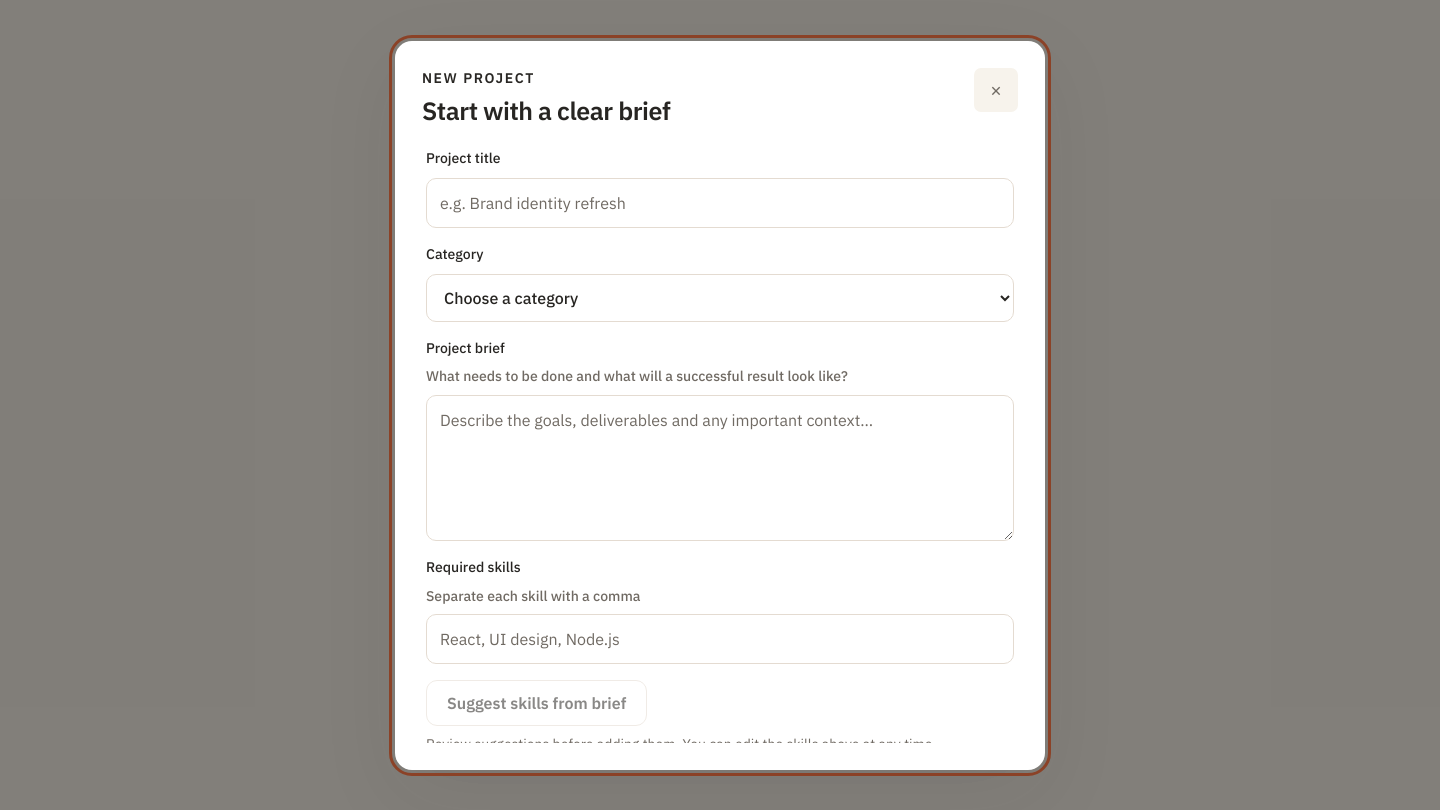
Test: late skill suggestions cannot be reused after a brief edit
In the field with placeholder "e.g. Brand identity refresh": (720, 203) [426,178,1014,228], type "Technical guide"
In the text box with placeholder "Describe the goals, deliverables and any important context…": (720, 468) [426,395,1014,541], type "Write a clear guide explaining React and Node APIs for new developers."
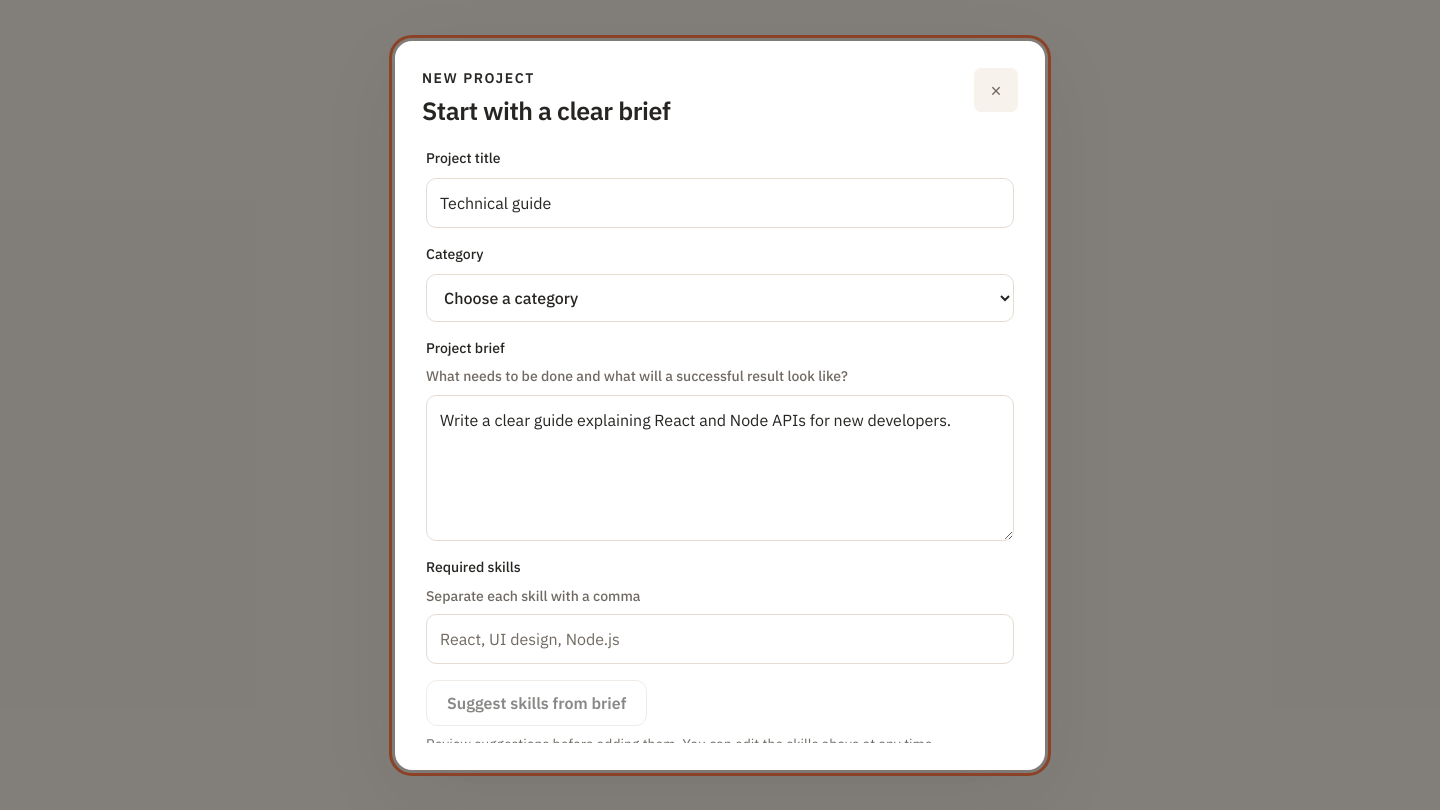
In the field with placeholder "React, UI design, Node.js": (720, 639) [426,614,1014,664], type "React, Writing"
(page scrolled)
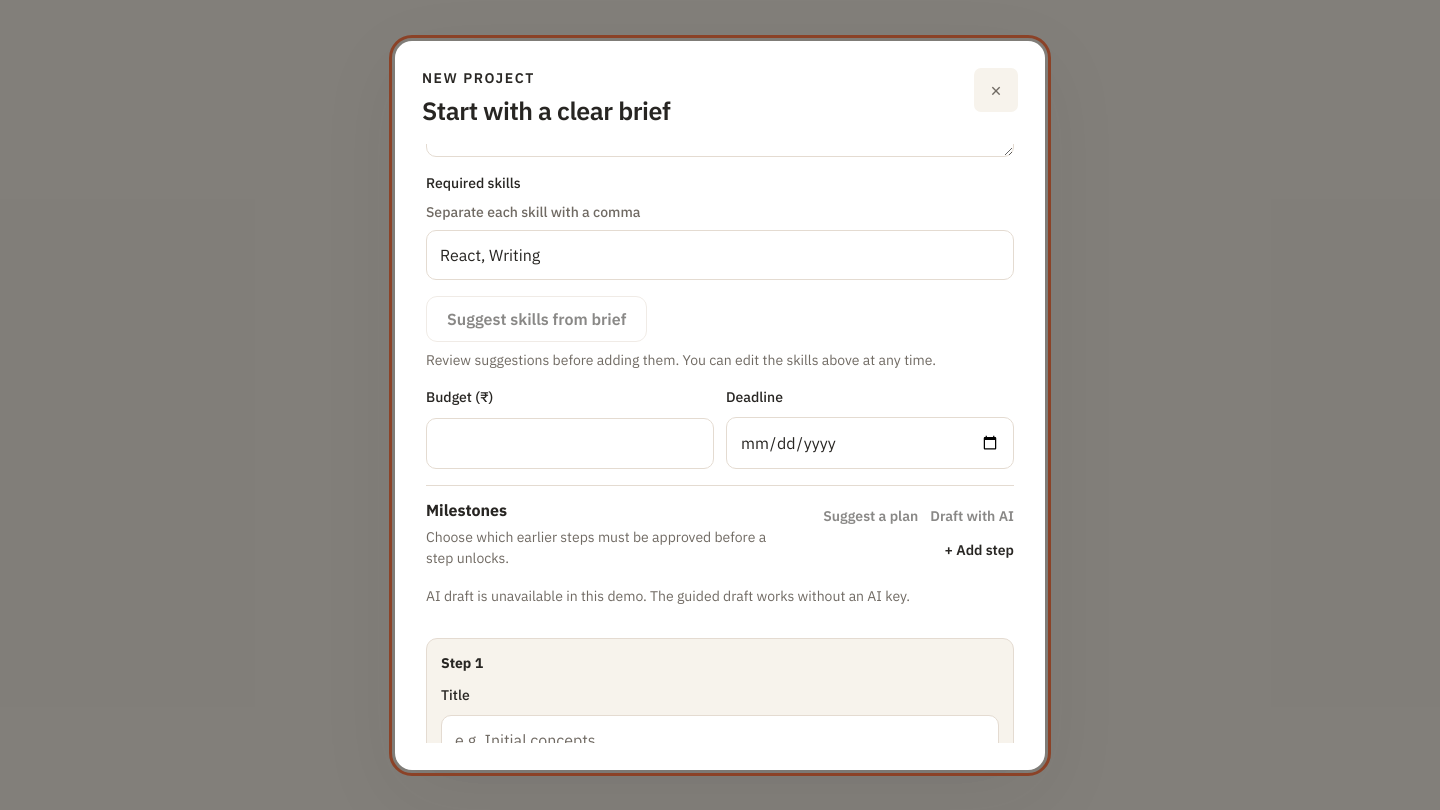
In the number field labelled "Budget (₹)": (570, 443) [426,418,714,469], type "10000"
(page scrolled)
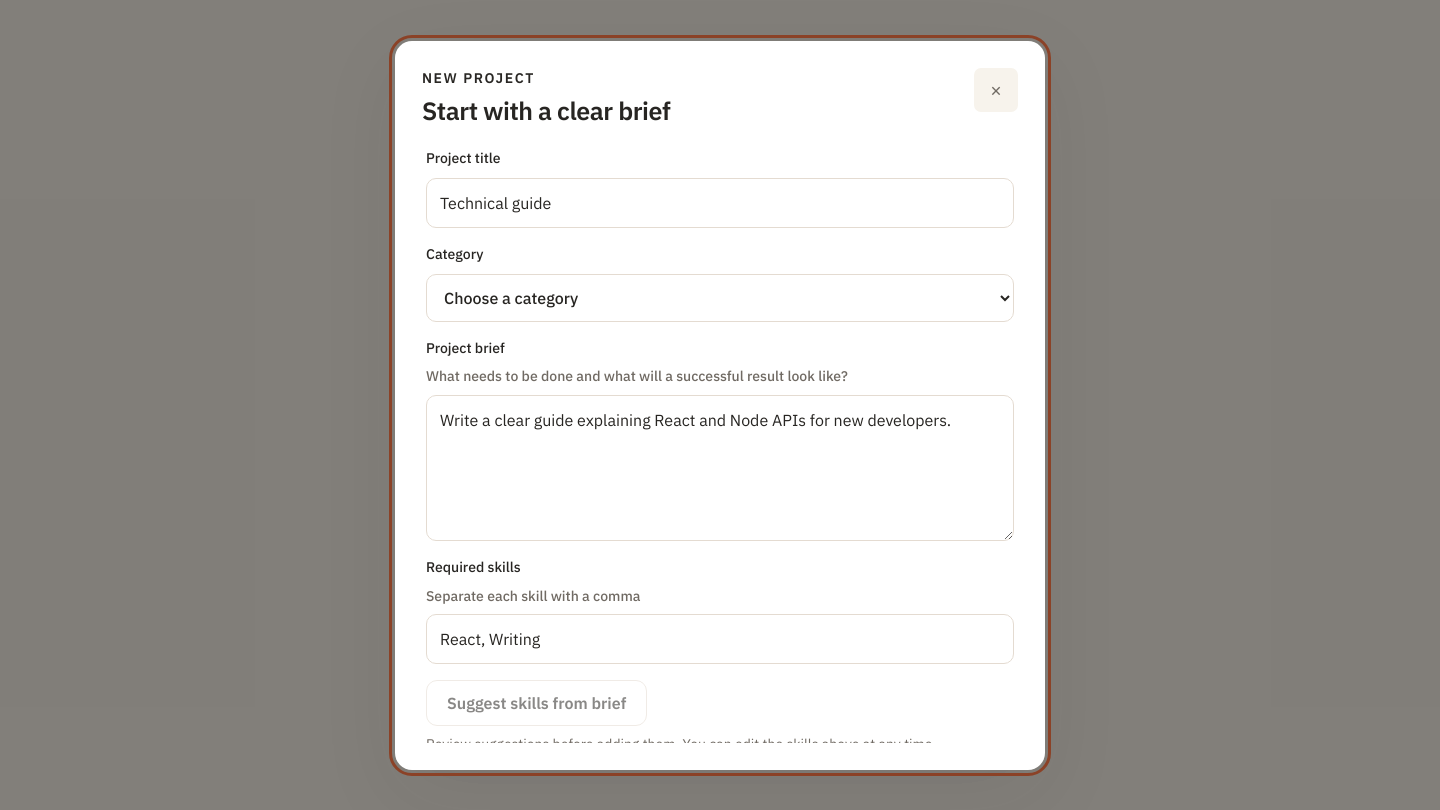
Select "Web Development" in the dropdown labelled "Category": (720, 298) [426,274,1014,322]
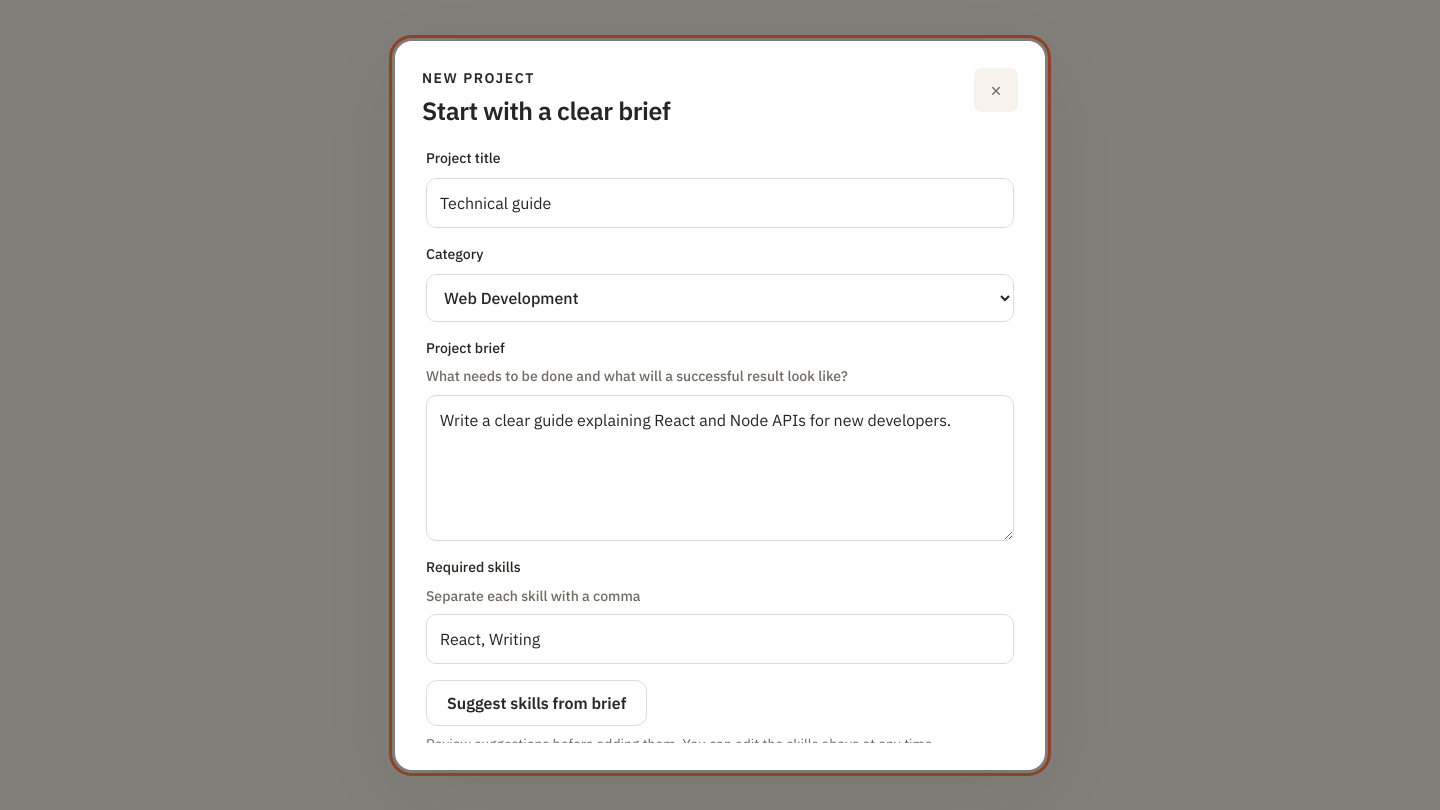
Click the button "Suggest skills from brief": (537, 703) [426,680,647,726]
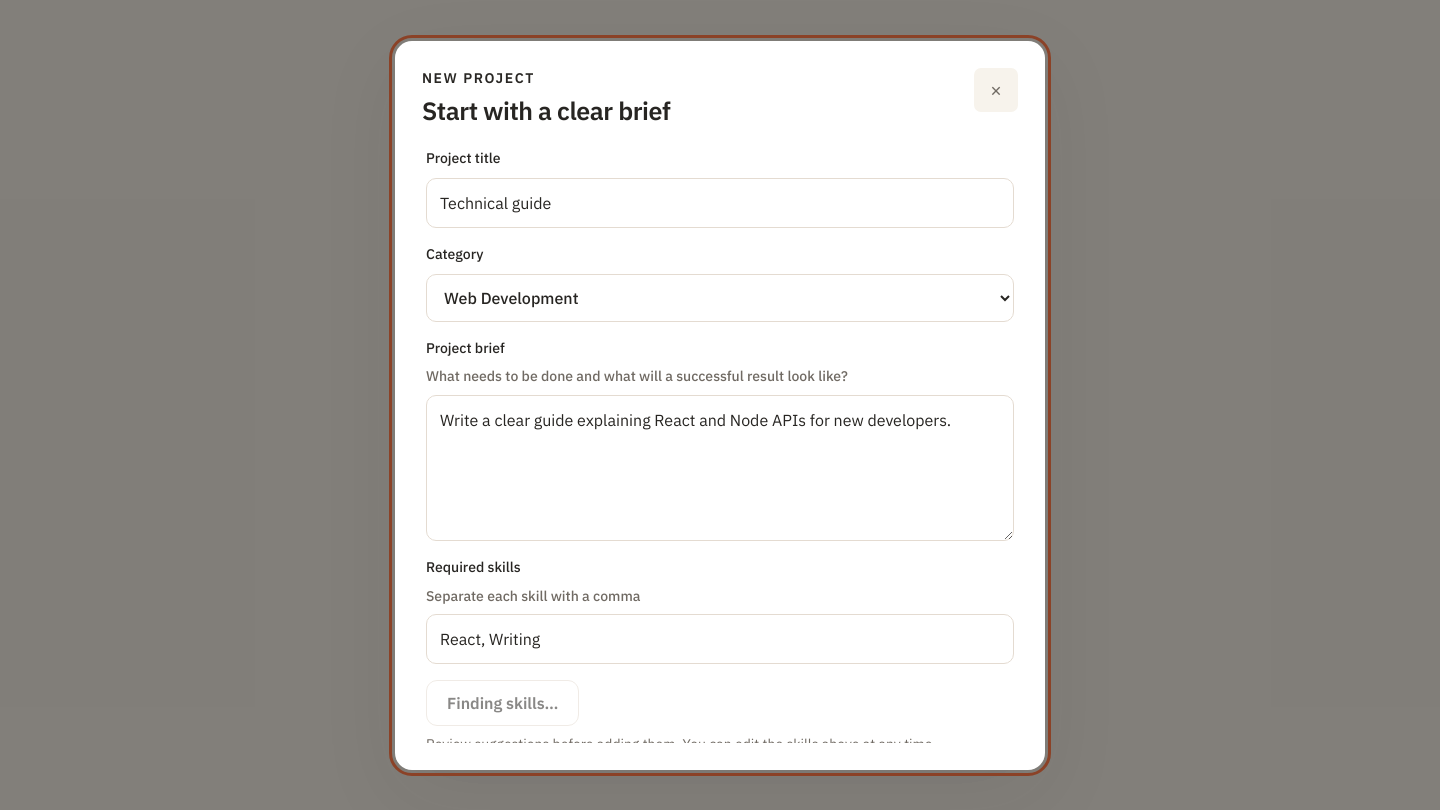
Replace the text in the text box with placeholder "Describe the goals, deliverables and any important context…" with "Write a clear article describing the project requirements for the readers.": (720, 468) [426,395,1014,541]
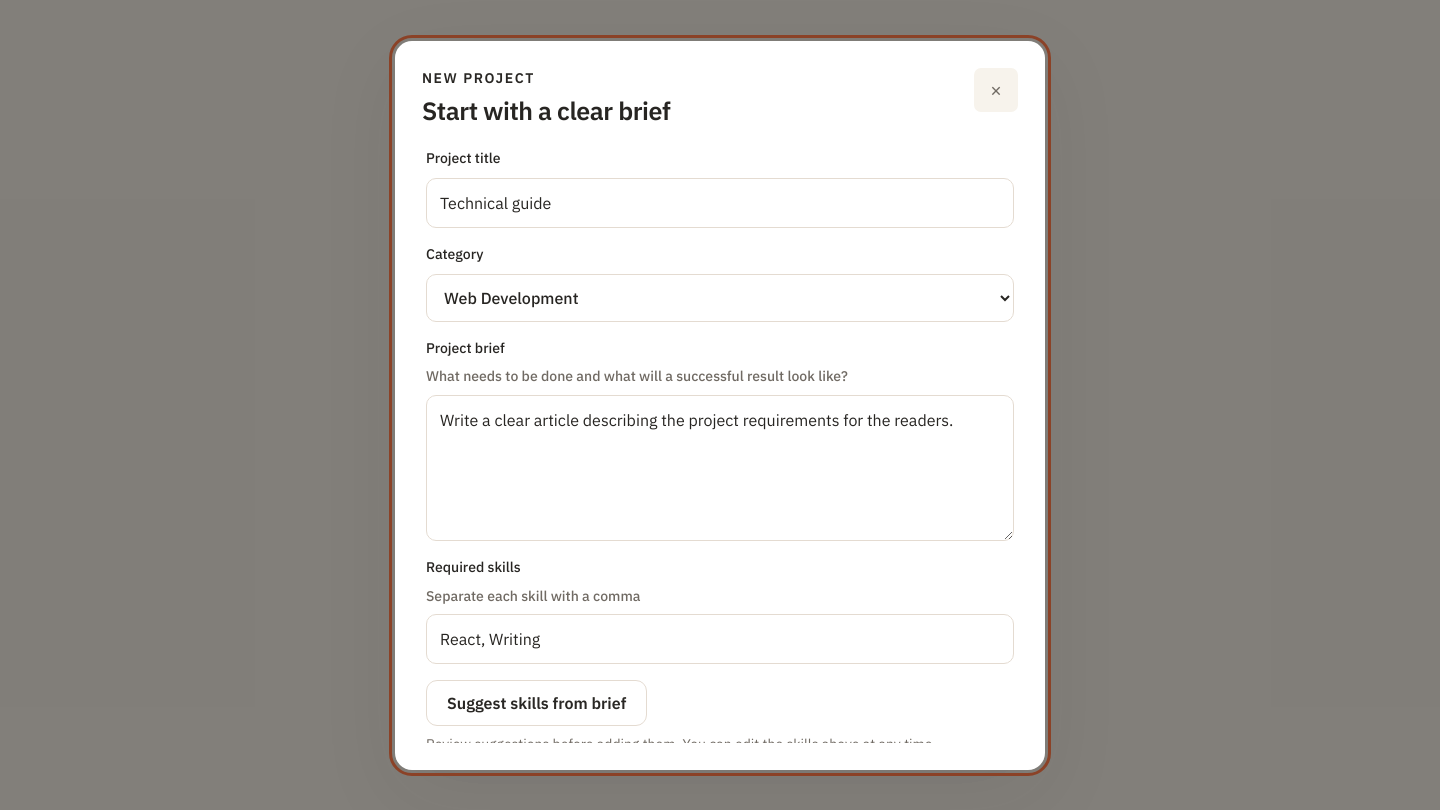
Expected: the button "Suggest skills from brief" is enabled, [426,680,647,726]
